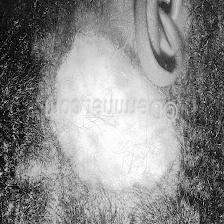Unclassified: (48, 33, 159, 99), (55, 122, 174, 180)
